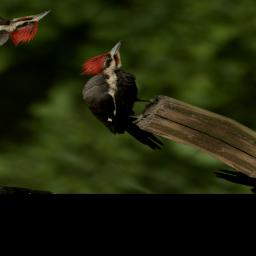Woodpecker: (30, 33, 233, 160)
